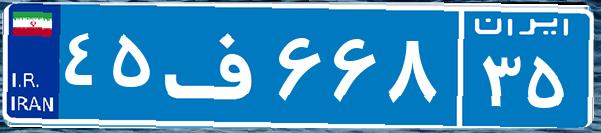3: (475, 38, 525, 113)
4: (57, 26, 110, 107)
5: (110, 28, 158, 105), (525, 38, 570, 115)
6: (273, 28, 330, 110), (330, 28, 385, 110)
8: (385, 28, 445, 110)
ف: (158, 15, 273, 115)
